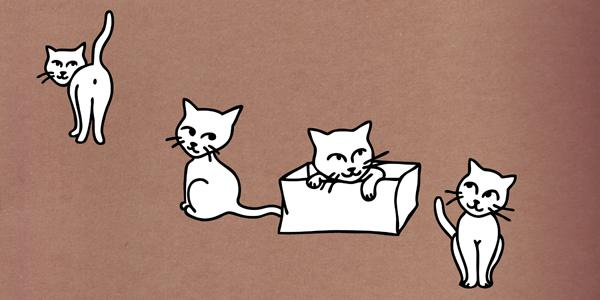cat: (165, 97, 286, 230), (429, 151, 525, 300), (25, 12, 129, 148), (305, 123, 395, 206)
